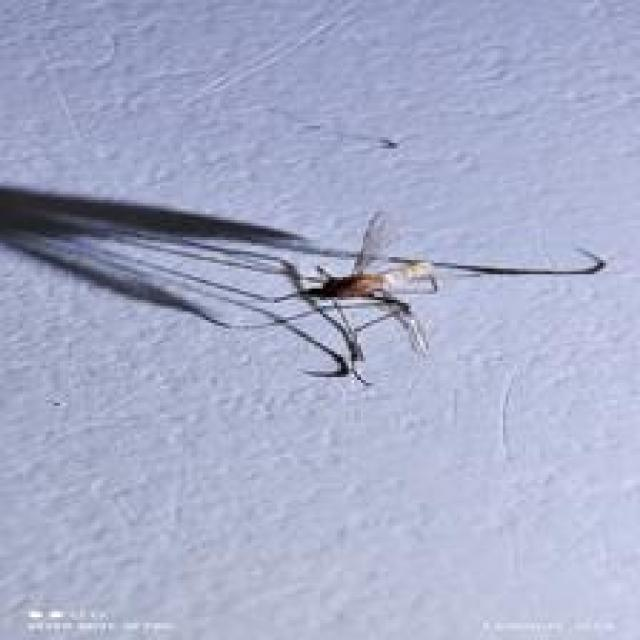Culex: (2, 171, 607, 386)
